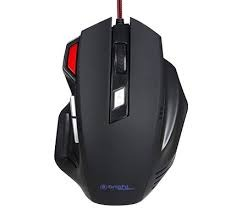mouse: (56, 14, 186, 201)
